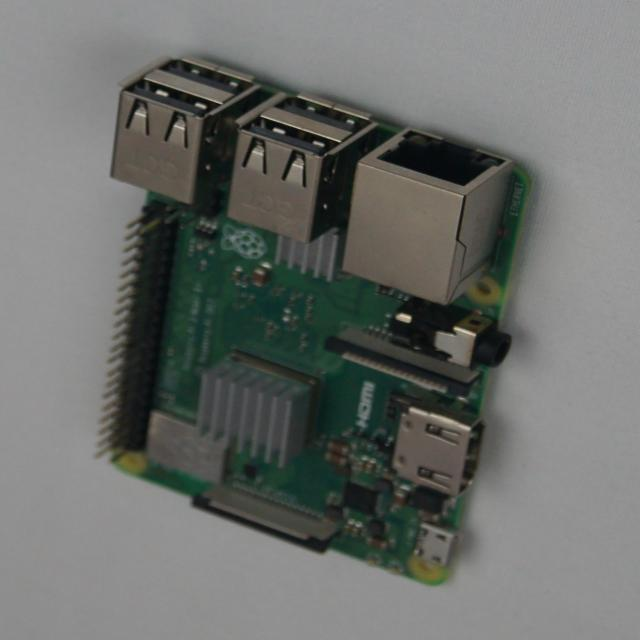Raspberry Pi 3 B-: (101, 58, 529, 584)
